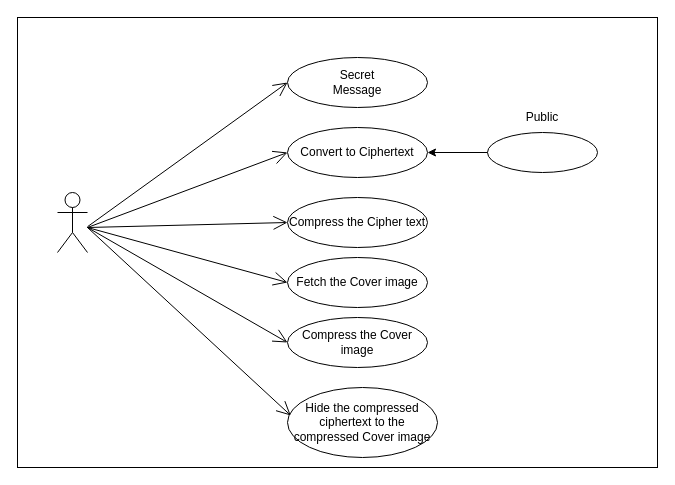
Some shapes in this 675 by 485 pixel diagram are drawn without their labels. The shapes that lost their labels are listed below. From the top down, each one's centre as x and y in pixels, then its label:
[542,152]: Key
[72,222]: Sender
